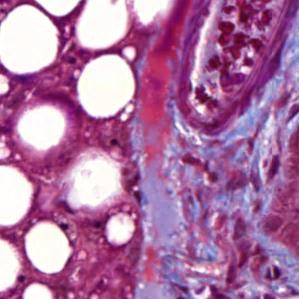steatosis: (77, 53, 135, 120), (22, 219, 76, 273)
